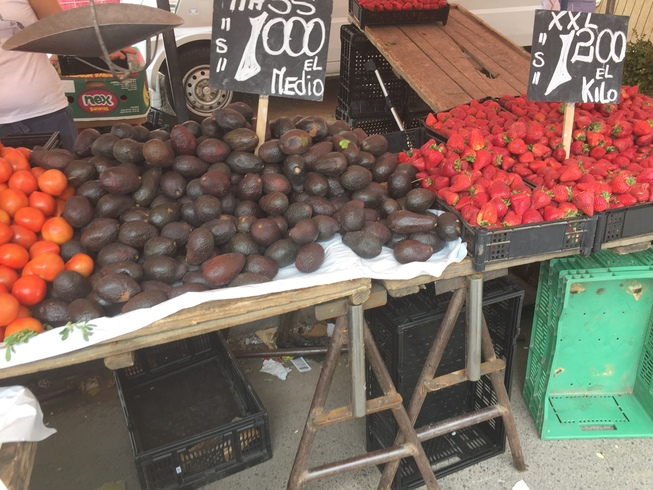precio: (201, 1, 345, 107), (525, 7, 636, 110)
